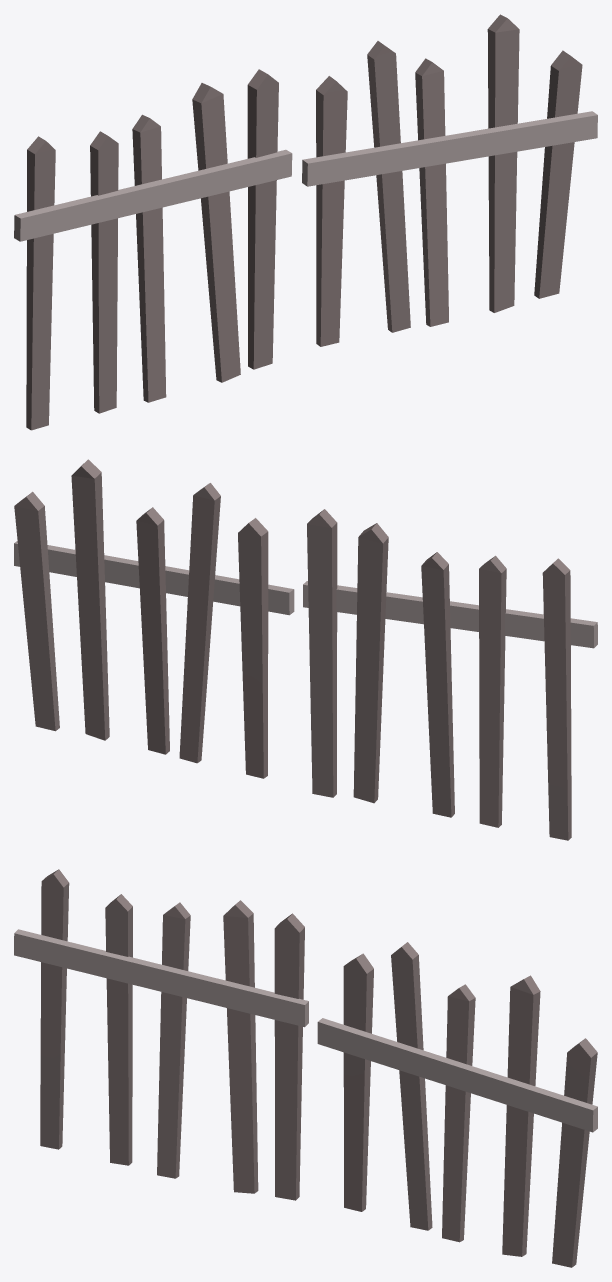
The model's file is HWN20_FenceWood.glb.
3 renders of one model, top to bottom at view 1: azimuth 30°, elevation 25°; view 2: azimuth 150°, elevation 25°; view 3: azimuth 330°, elevation 25°, orthographic. The views are drawn at different scales.
Parts seen in each view (by area): view 1: HWN20_FenceWood; view 2: HWN20_FenceWood; view 3: HWN20_FenceWood.
Part boxes in pixels (bbox=[...]): HWN20_FenceWood: bbox=[14, 14, 597, 430]; HWN20_FenceWood: bbox=[14, 459, 597, 840]; HWN20_FenceWood: bbox=[14, 869, 597, 1267].
Size of what is drawn, in the model's own units: 2.34 by 1.11 by 0.2203.
Materials: 1 (1 with a texture image).
